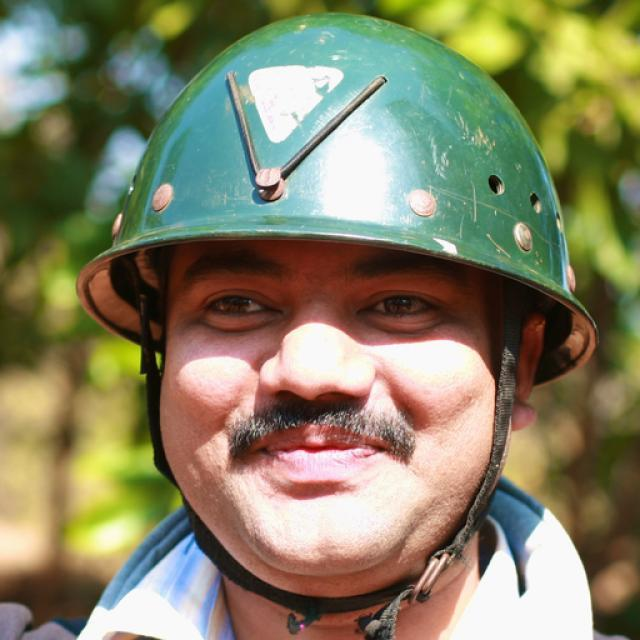content: (162, 230, 500, 596)
